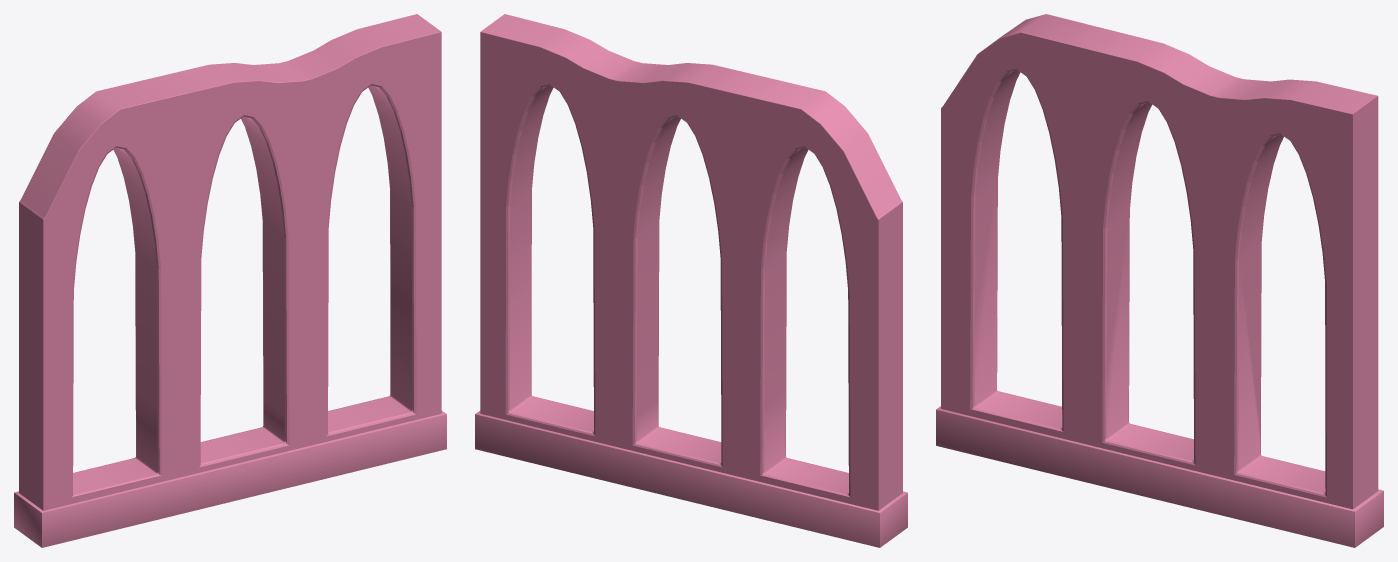
The model's file is ruiny_sciana1.fbx.
3 views of the same model, side by side, from view 1: azimuth 30°, elevation 25°; view 2: azimuth 150°, elevation 25°; view 3: azimuth 330°, elevation 25° (orthographic). The views are drawn at different scales.
Parts seen in each view (by area): view 1: ruiny_sciana1; view 2: ruiny_sciana1; view 3: ruiny_sciana1.
Part boxes in pixels (x1,y1,x2,y2): ruiny_sciana1: (14,14,446,547); ruiny_sciana1: (475,14,907,547); ruiny_sciana1: (936,14,1383,547).
Bounding box in the file's own units: 294 × 290 × 35.3.
